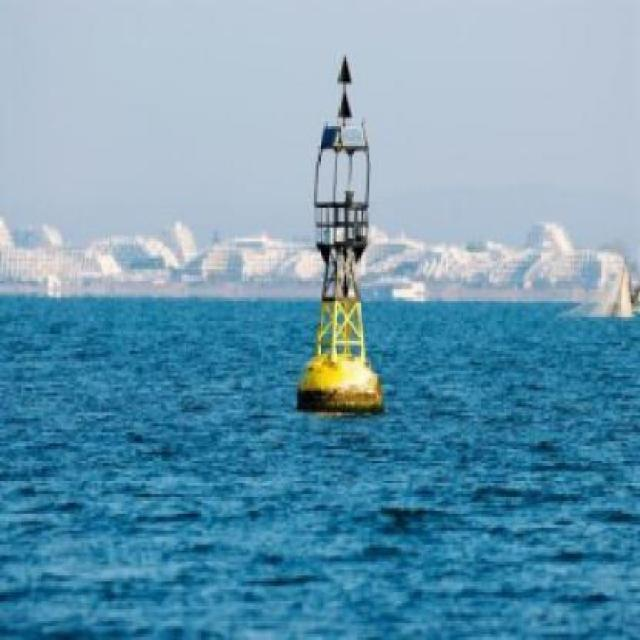buoy: (291, 40, 397, 422)
